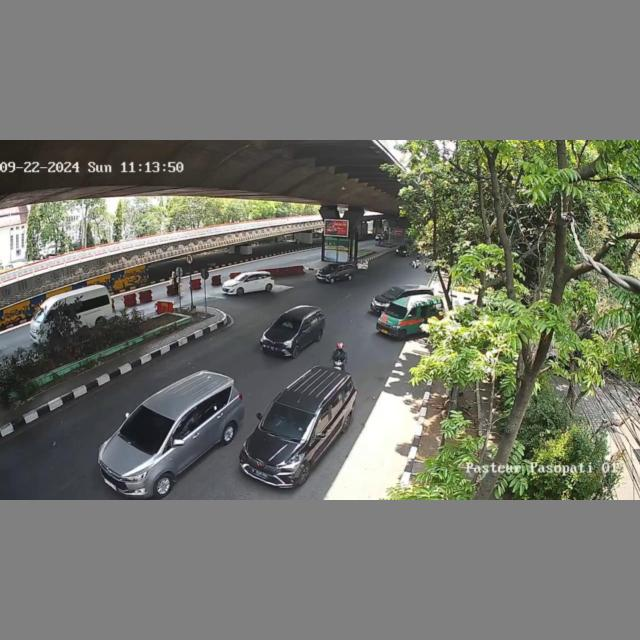windshield: (116, 407, 178, 449), (265, 404, 317, 441), (273, 316, 302, 332), (386, 304, 407, 319), (382, 288, 402, 299)
